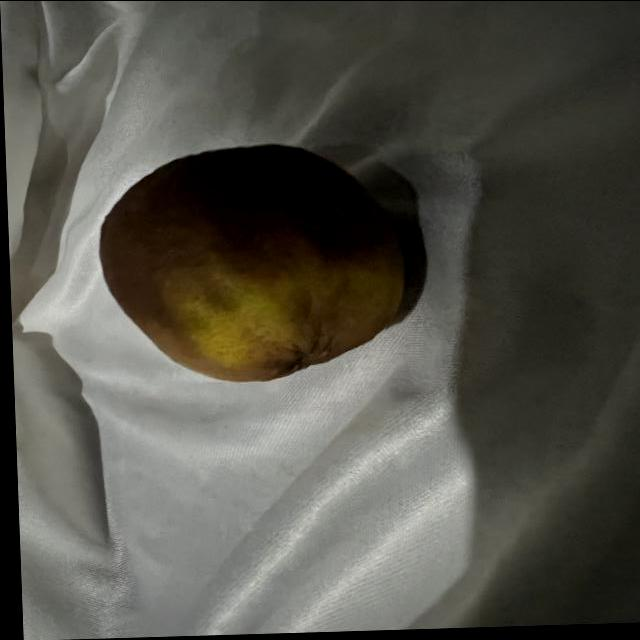Pathological: (9, 2, 637, 635)
Sharps: (97, 141, 412, 382)
